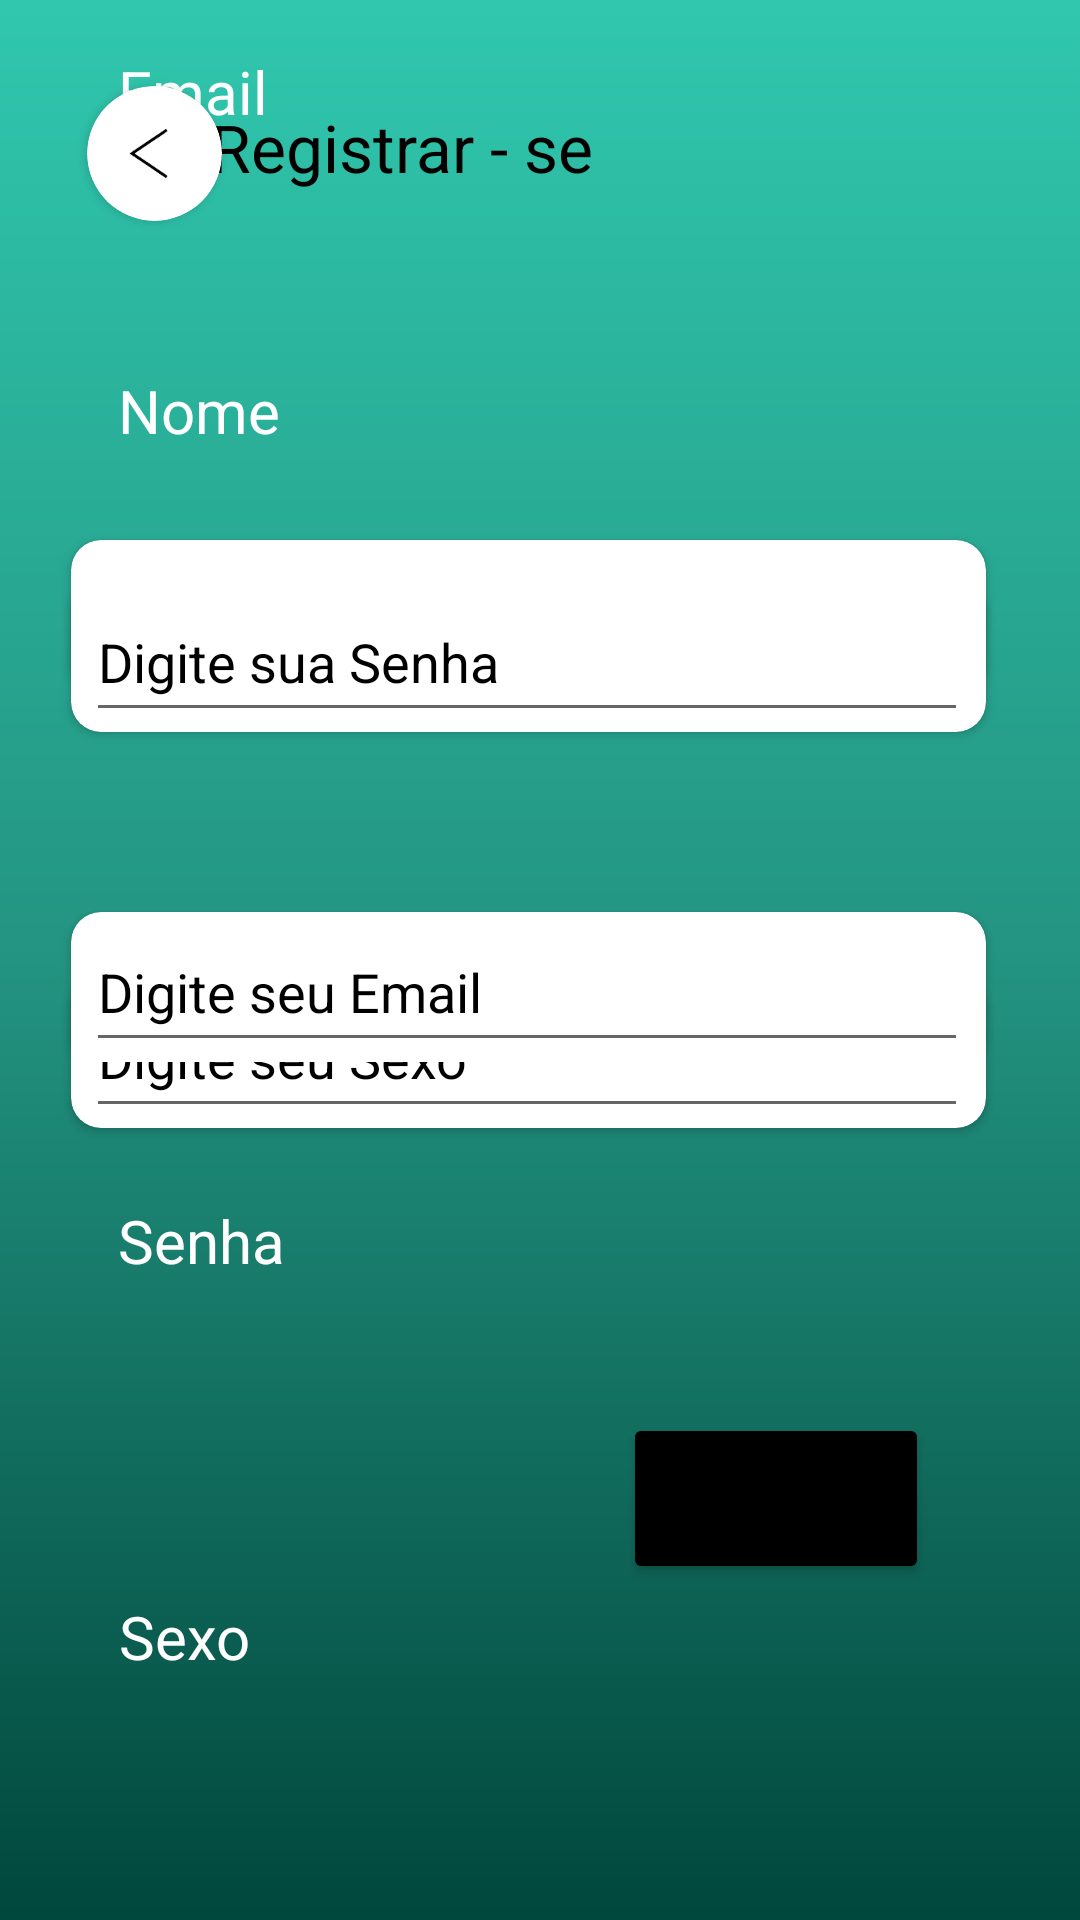

Screen size 1080 × 1920. Icon name, then its center in pixels as point (x, y):
voltar: point (154, 153)
